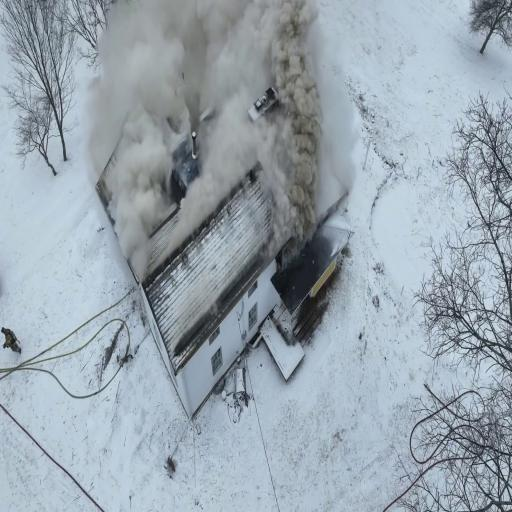smoke: (277, 30, 319, 242)
